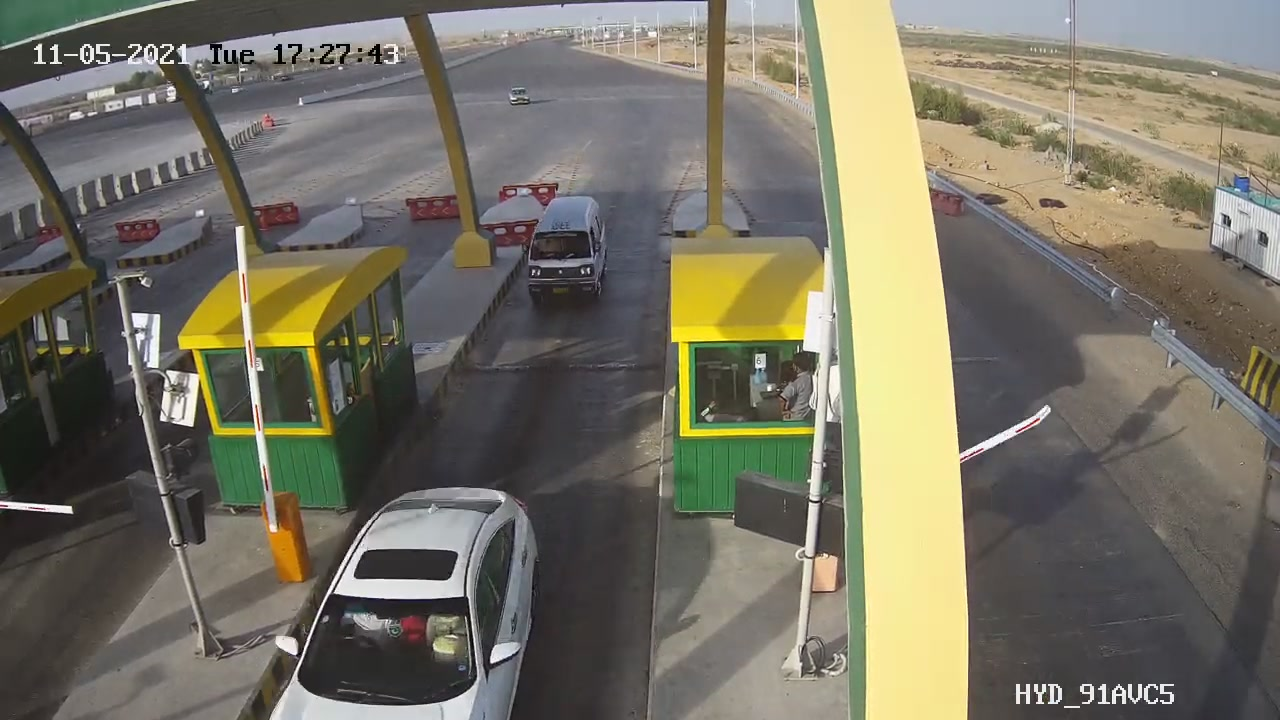F1: (505, 179, 633, 320)
